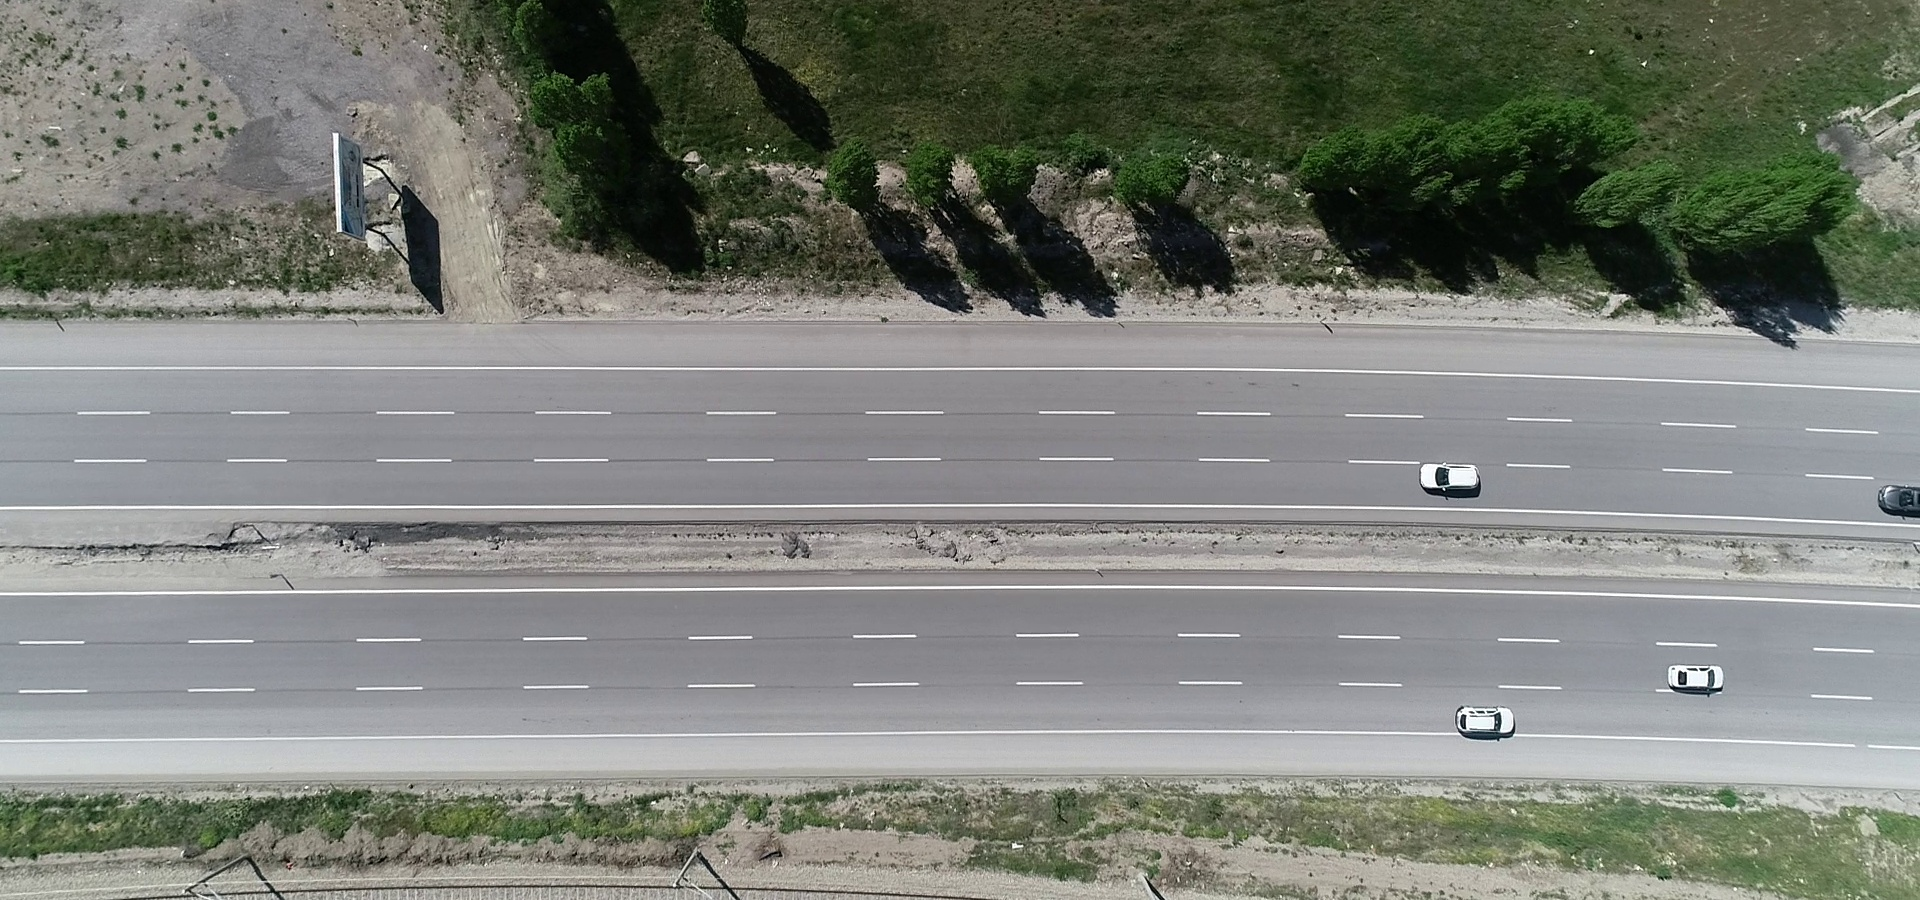arac: (1446, 697, 1531, 744), (1662, 658, 1739, 700), (1414, 460, 1483, 504), (1873, 478, 1920, 522)
